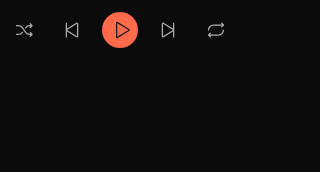
Test: PlaybackControls › cycles repeat through all, one and off with matching labels
What coordinates should you click on to do the following:
click the button named "Enable repeat"
I would click on:
 (216, 30)
Its box is 198,12 -> 234,48.
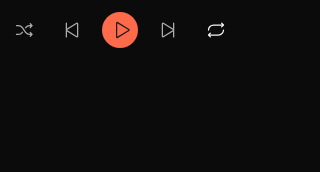
What coordinates should you click on to do the following:
click the button named "Disable repeat"
I would click on:
 (216, 30)
Its box is 198,12 -> 234,48.
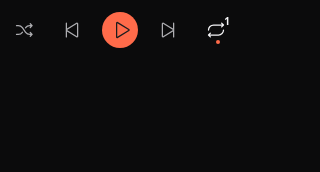
Now the button named "Disable repeat one" is pressed, box 198,12 -> 234,48
